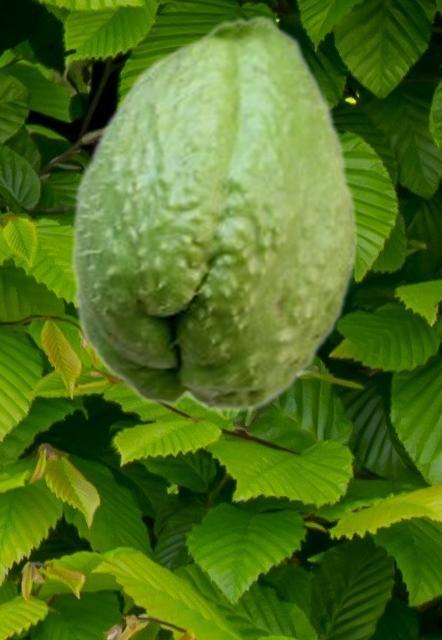sayote: (70, 13, 359, 413)
